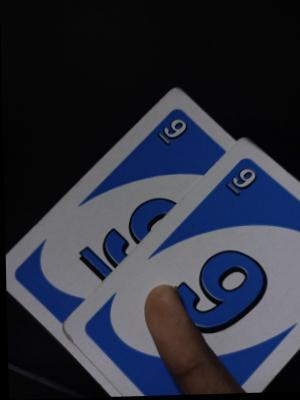blue: (43, 128, 189, 318), (200, 186, 282, 374)
num_9: (221, 163, 262, 199), (154, 113, 189, 150)
